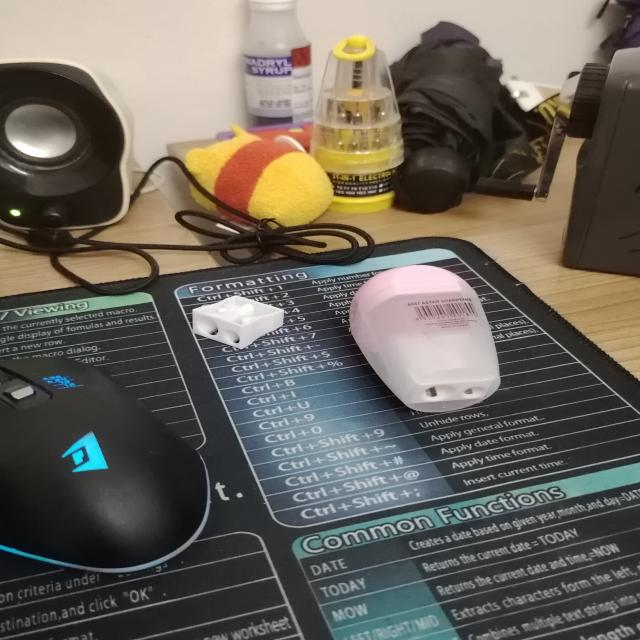sharpener: (349, 265, 500, 413), (193, 296, 284, 349)
